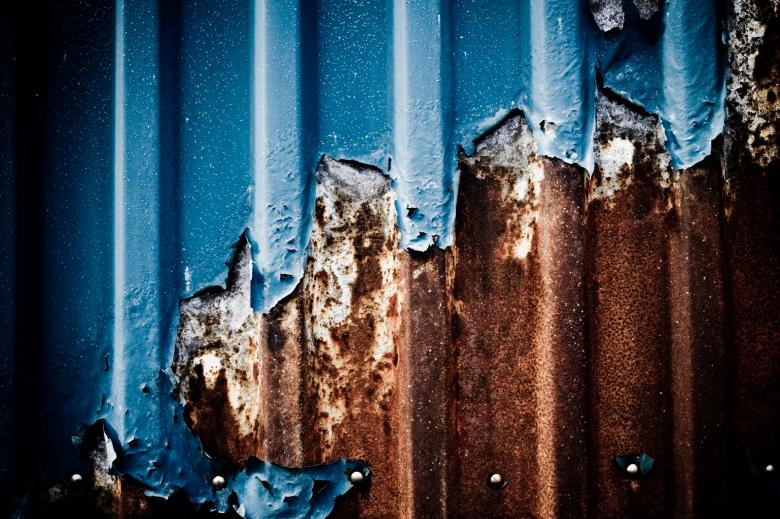rust: (242, 316, 780, 512), (420, 128, 755, 309)
